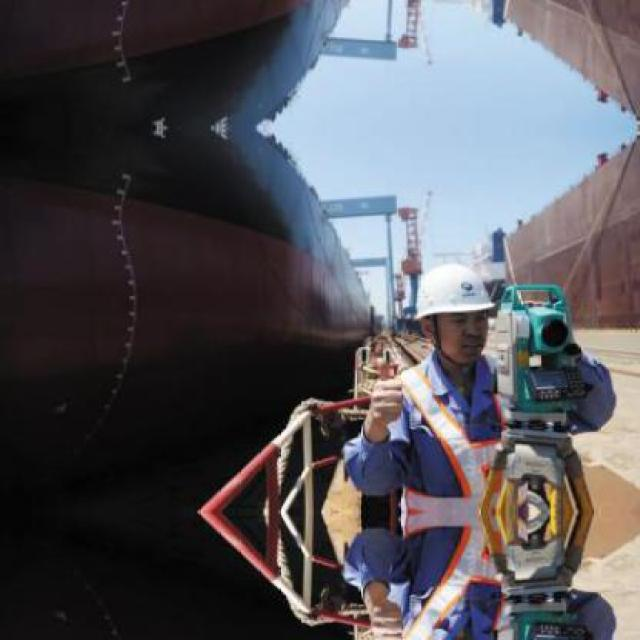helmet: (405, 253, 497, 365)
